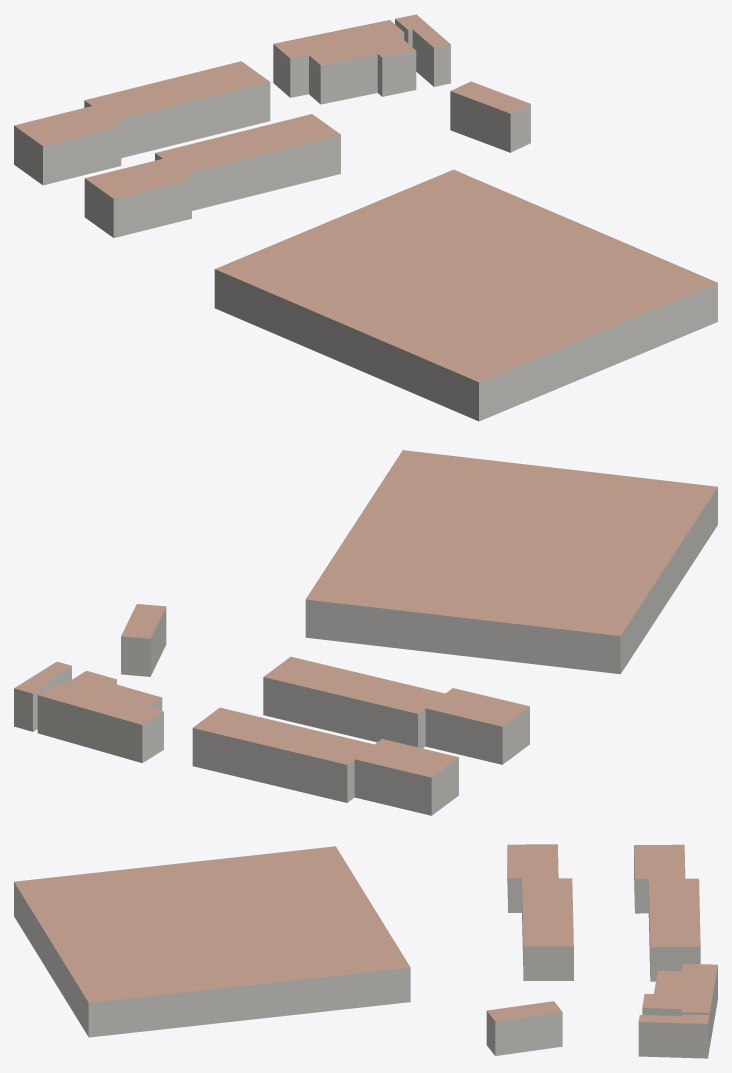
File: gridID_101.dae
3 views of the same model, one above another, from view 1: azimuth 30°, elevation 25°; view 2: azimuth 150°, elevation 25°; view 3: azimuth 270°, elevation 25° (orthographic). The views are drawn at different scales.
Visible parts, largest first — view 1: model_gridID_101_w116941150, model_gridID_101_w389878886, model_gridID_101_r6179494, model_gridID_101_r6179490, model_gridID_101_r6179499, model_gridID_101_r6179500, model_gridID_101_r6179490_001, model_gridID_101_r6179494_001, model_gridID_101_w414225319, model_gridID_101_w389878917; view 2: model_gridID_101_w116941150, model_gridID_101_w389878886, model_gridID_101_r6179494, model_gridID_101_r6179490, model_gridID_101_r6179490_001, model_gridID_101_r6179494_001, model_gridID_101_r6179500, model_gridID_101_r6179499, model_gridID_101_w414225319, model_gridID_101_w389878917; view 3: model_gridID_101_w116941150, model_gridID_101_r6179500, model_gridID_101_w414225319, model_gridID_101_w389878886, model_gridID_101_w389878917, model_gridID_101_r6179499, model_gridID_101_r6179494, model_gridID_101_r6179490, model_gridID_101_r6179490_001, model_gridID_101_r6179494_001.
Boxes of the visible parts, x1,y1,x2,y2 form: model_gridID_101_w116941150: [214, 169, 717, 421]; model_gridID_101_w389878886: [273, 20, 416, 104]; model_gridID_101_r6179494: [84, 159, 191, 237]; model_gridID_101_r6179490: [14, 106, 121, 185]; model_gridID_101_r6179499: [163, 61, 270, 140]; model_gridID_101_r6179500: [234, 114, 340, 193]; model_gridID_101_r6179490_001: [84, 80, 191, 157]; model_gridID_101_r6179494_001: [155, 133, 262, 210]; model_gridID_101_w414225319: [450, 81, 530, 152]; model_gridID_101_w389878917: [395, 14, 450, 86]; model_gridID_101_w116941150: [305, 450, 717, 674]; model_gridID_101_w389878886: [37, 670, 163, 763]; model_gridID_101_r6179494: [425, 688, 529, 764]; model_gridID_101_r6179490: [354, 739, 458, 815]; model_gridID_101_r6179490_001: [270, 726, 374, 802]; model_gridID_101_r6179494_001: [340, 675, 444, 748]; model_gridID_101_r6179500: [263, 656, 367, 733]; model_gridID_101_r6179499: [192, 707, 296, 784]; model_gridID_101_w414225319: [121, 604, 166, 676]; model_gridID_101_w389878917: [14, 661, 71, 731]; model_gridID_101_w116941150: [14, 846, 410, 1037]; model_gridID_101_r6179500: [522, 912, 573, 980]; model_gridID_101_w414225319: [486, 1001, 562, 1055]; model_gridID_101_w389878886: [642, 963, 717, 1047]; model_gridID_101_w389878917: [638, 1014, 709, 1058]; model_gridID_101_r6179499: [649, 912, 700, 981]; model_gridID_101_r6179494: [507, 844, 558, 912]; model_gridID_101_r6179490: [634, 844, 685, 913]; model_gridID_101_r6179490_001: [648, 878, 699, 945]; model_gridID_101_r6179494_001: [522, 878, 572, 935].
Bounding box in the file's own units: 83.41 × 138 × 7.5.
